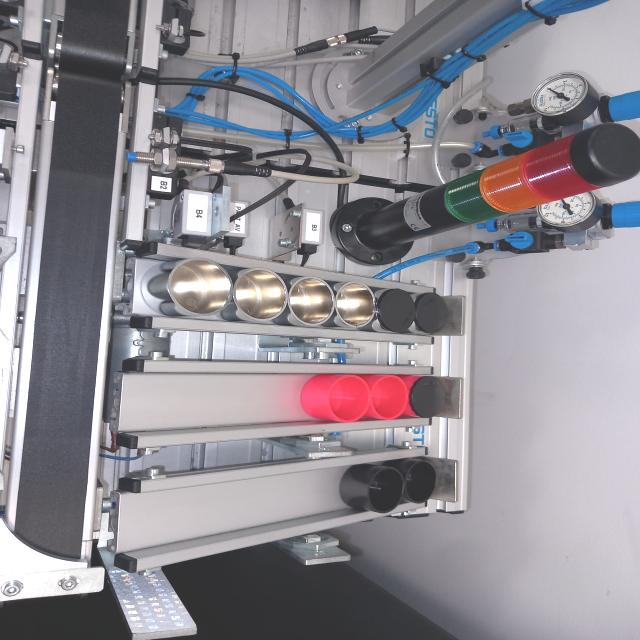NoLid: (138, 258, 228, 316), (226, 264, 292, 327), (304, 372, 371, 426), (341, 466, 404, 515), (290, 270, 334, 332), (334, 276, 374, 334), (370, 372, 410, 423), (402, 460, 442, 504)
Workpiece: (376, 282, 416, 334), (410, 374, 446, 422), (414, 290, 452, 335)
